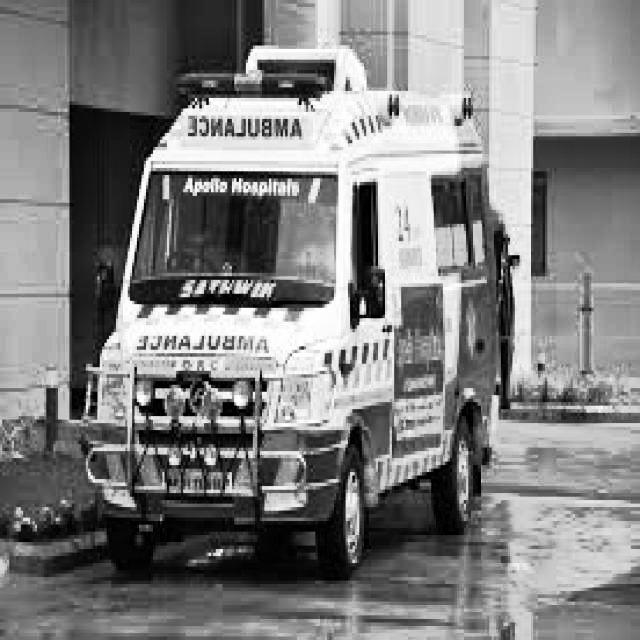LCV: (98, 75, 391, 525)
